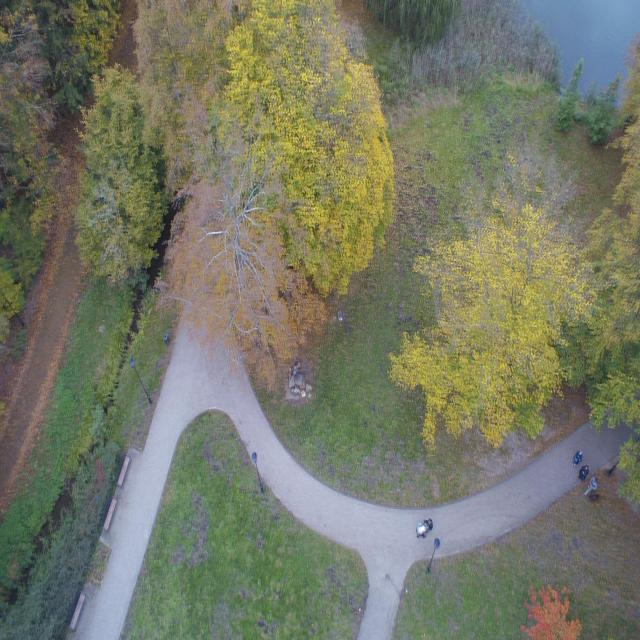p3rson: (584, 476, 598, 496), (577, 464, 589, 481), (571, 450, 583, 467), (423, 518, 433, 532)
